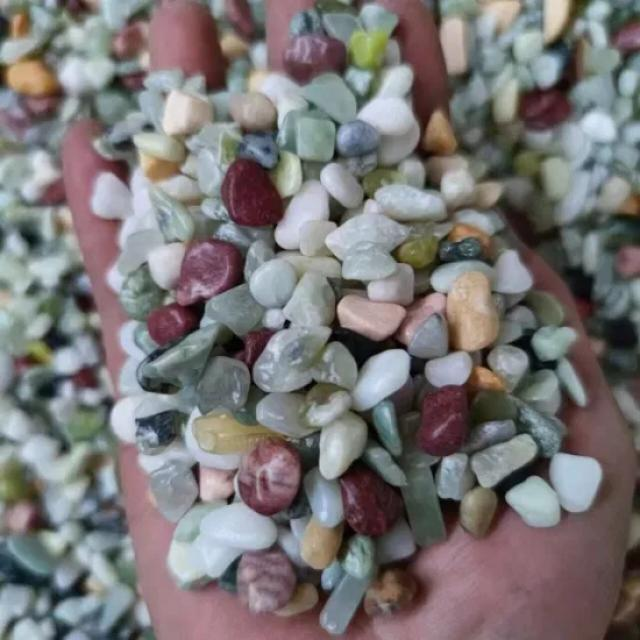Pecahan Agregat: (75, 44, 620, 620)
